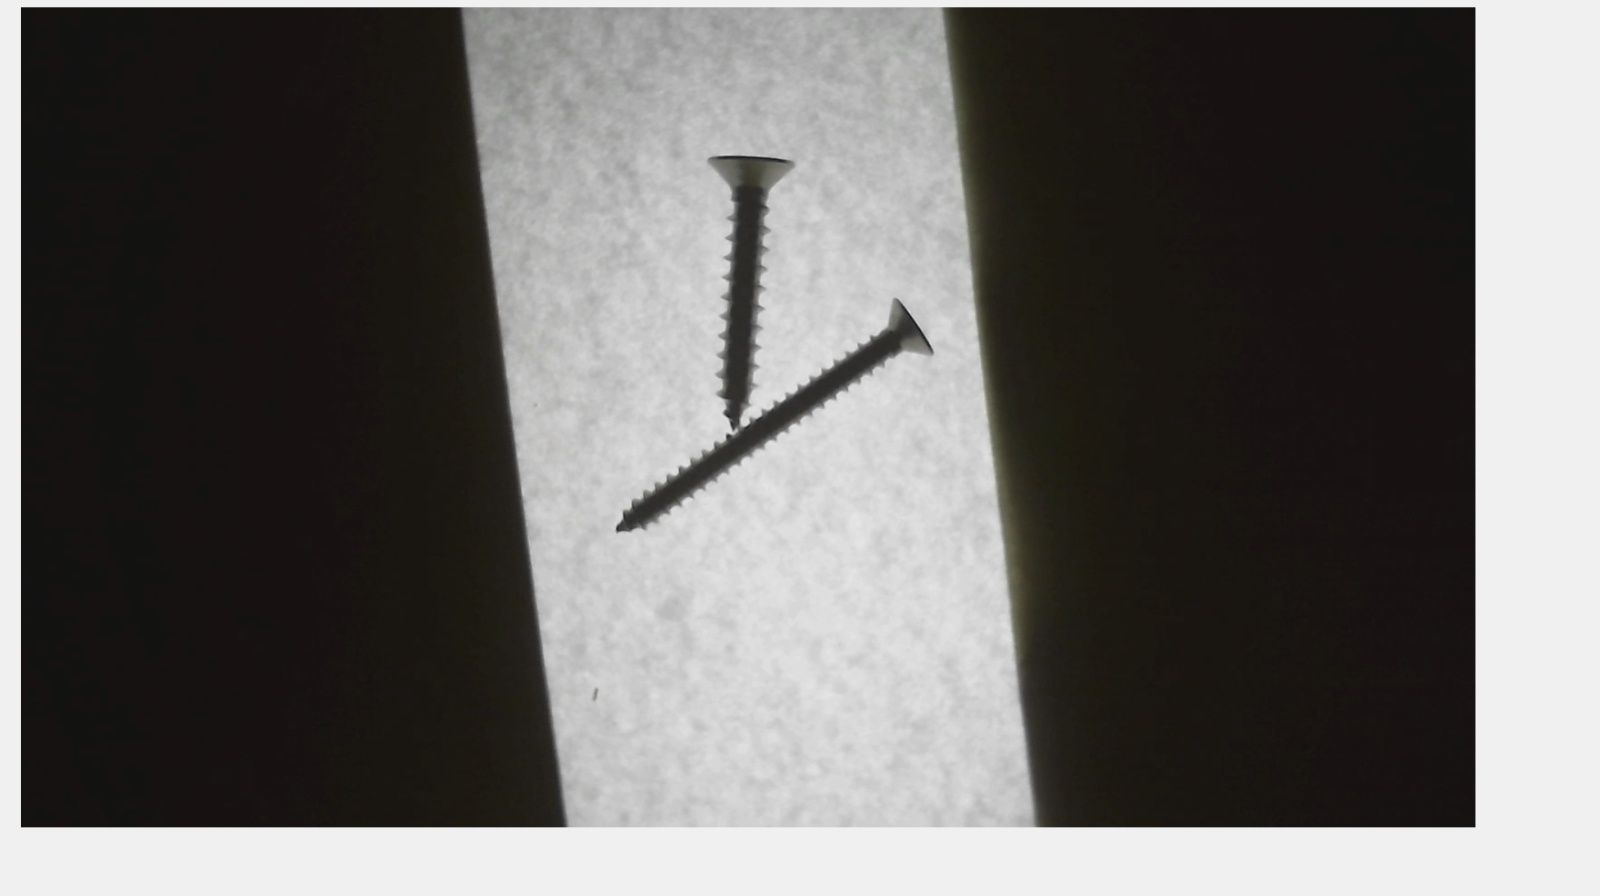S001: (686, 150, 800, 441)
S002: (614, 290, 936, 541)
